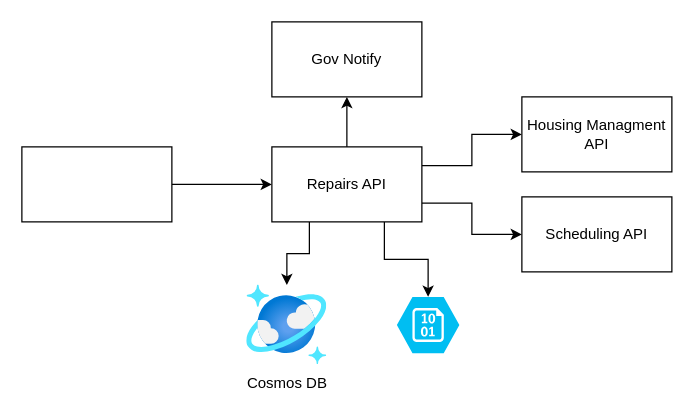
Image size: 694x420. Some labels were removed from this diagram. Here are the shapes that lost their labels. From the top down, the box of each, then its label:
(21, 146, 172, 222): Front end
(396, 296, 459, 352): Azure Blob storage
